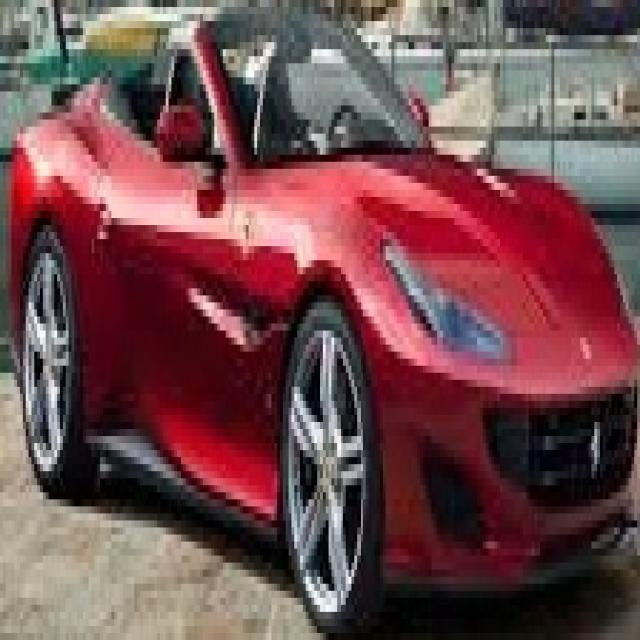red: (5, 12, 640, 560)
